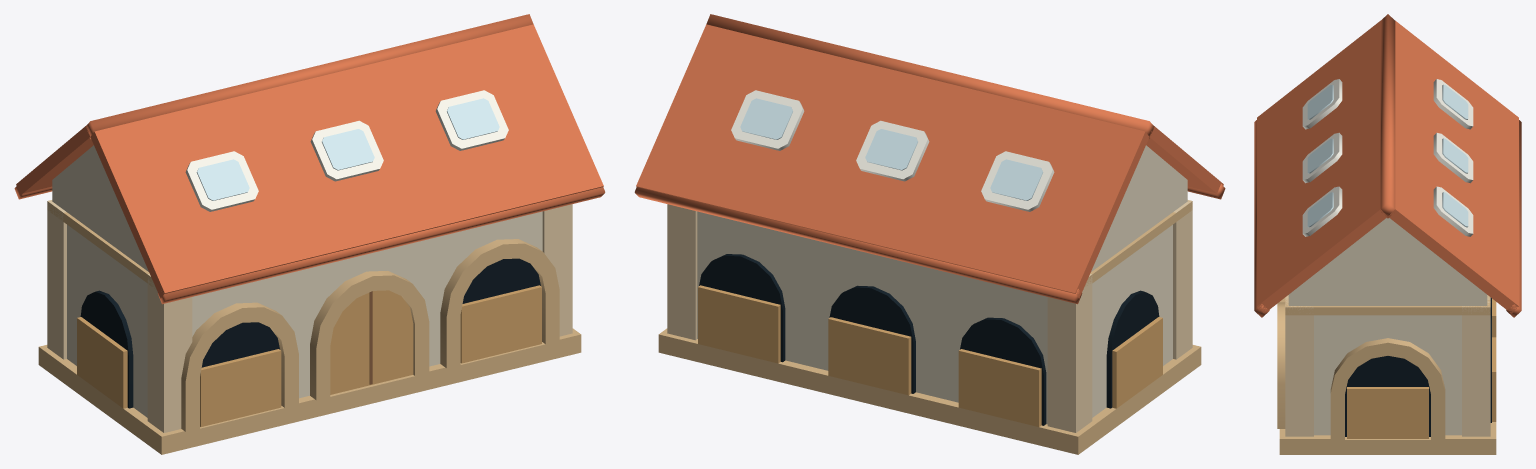
File: market-hall.lod1.glb
The picture shows the model from 3 angles, left to right: view 1: azimuth 30°, elevation 25°; view 2: azimuth 150°, elevation 25°; view 3: azimuth 270°, elevation 25°; orthographic projection. The views are drawn at different scales.
Parts seen in each view (by area): view 1: market-hall_lod1; view 2: market-hall_lod1; view 3: market-hall_lod1.
Part boxes in pixels (bbox=[...]): market-hall_lod1: bbox=[14, 14, 605, 454]; market-hall_lod1: bbox=[634, 14, 1225, 454]; market-hall_lod1: bbox=[1254, 14, 1521, 454].
Size of the model in its own units: 4.04 by 2.56 by 2.42.
